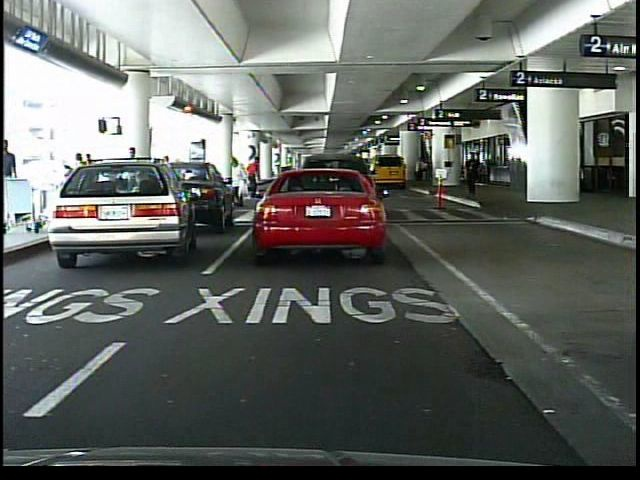person: (1, 139, 25, 225), (125, 145, 143, 219), (244, 153, 261, 205), (465, 151, 482, 196), (232, 158, 246, 211), (414, 155, 427, 190)
